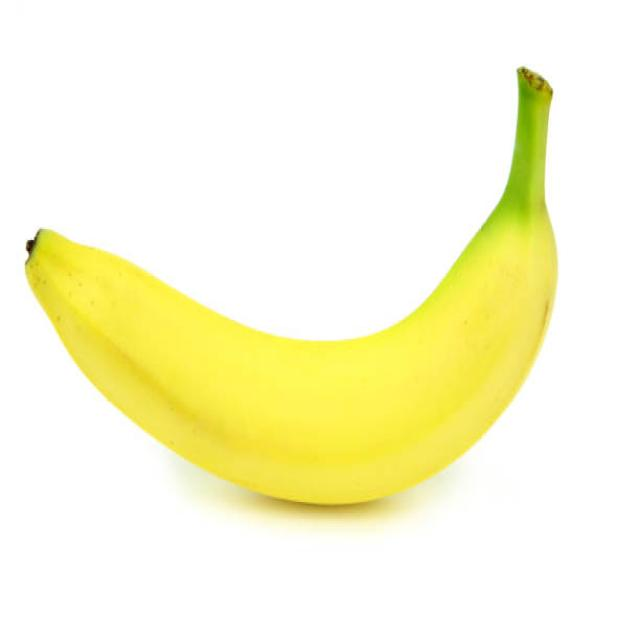banana: (20, 63, 560, 507)
